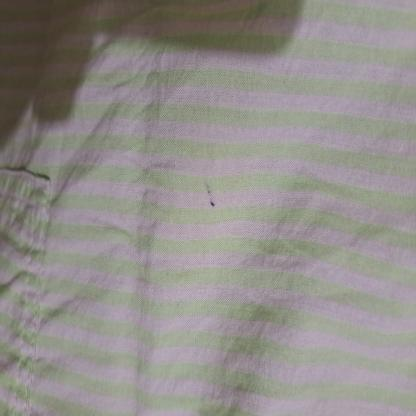spot: (205, 179, 220, 215)
